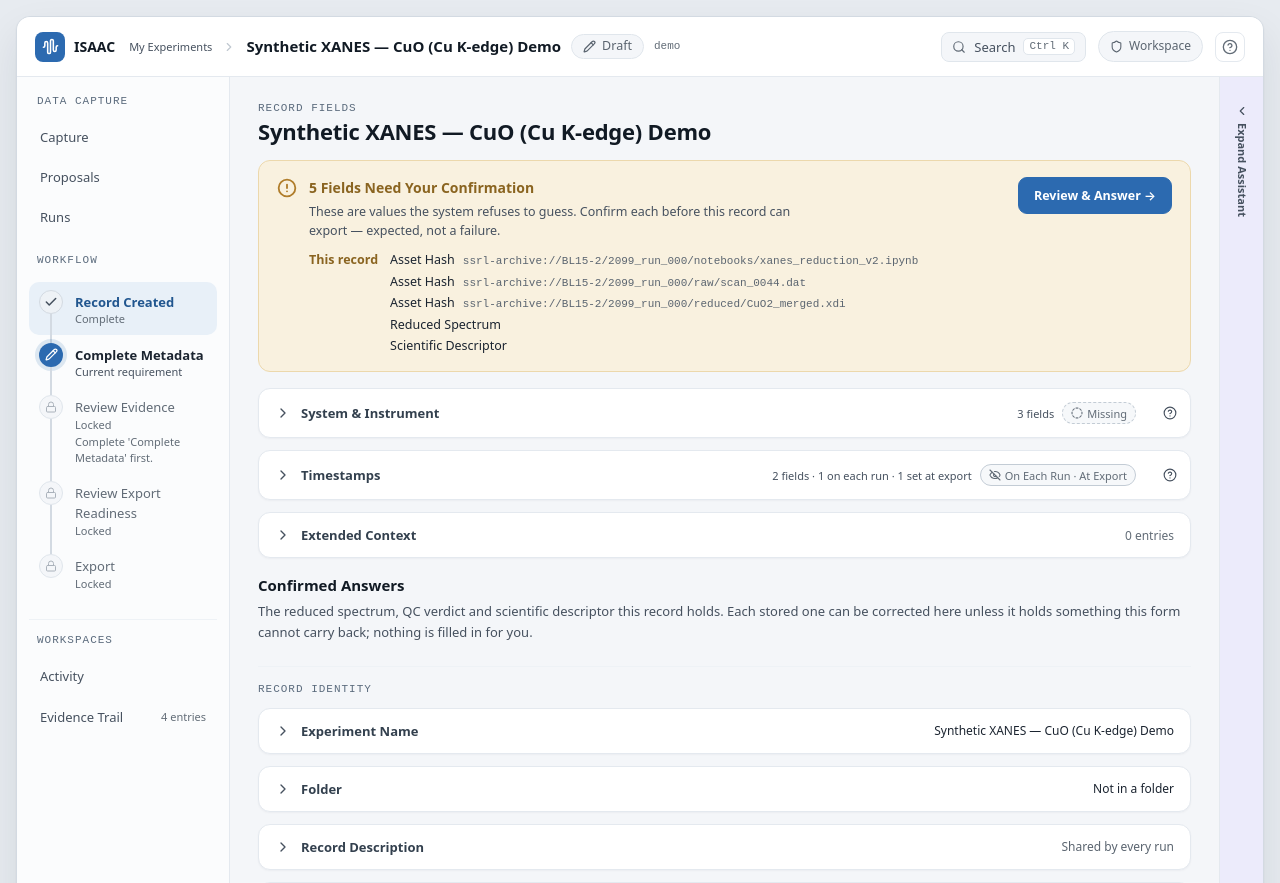
Scenario: the one control that exists › never presents a refused write as a success, and offers no silent retry
Click the button "System & Instrument 3 fields Missing". click: (370, 413)
box: [259, 389, 1152, 437]
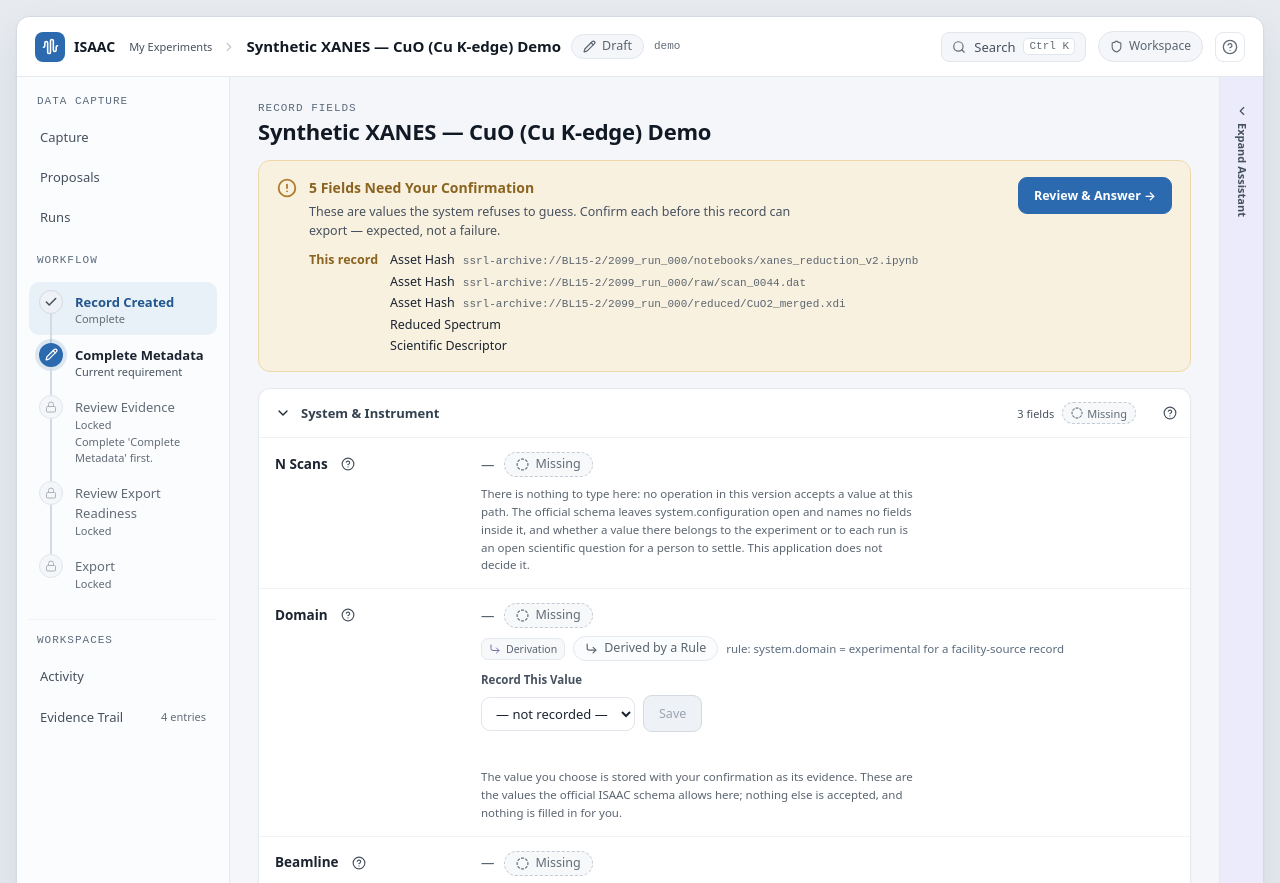
Select "Computational" in the dropdown labelled "Record This Value". click: (558, 714)
box: [481, 696, 635, 730]
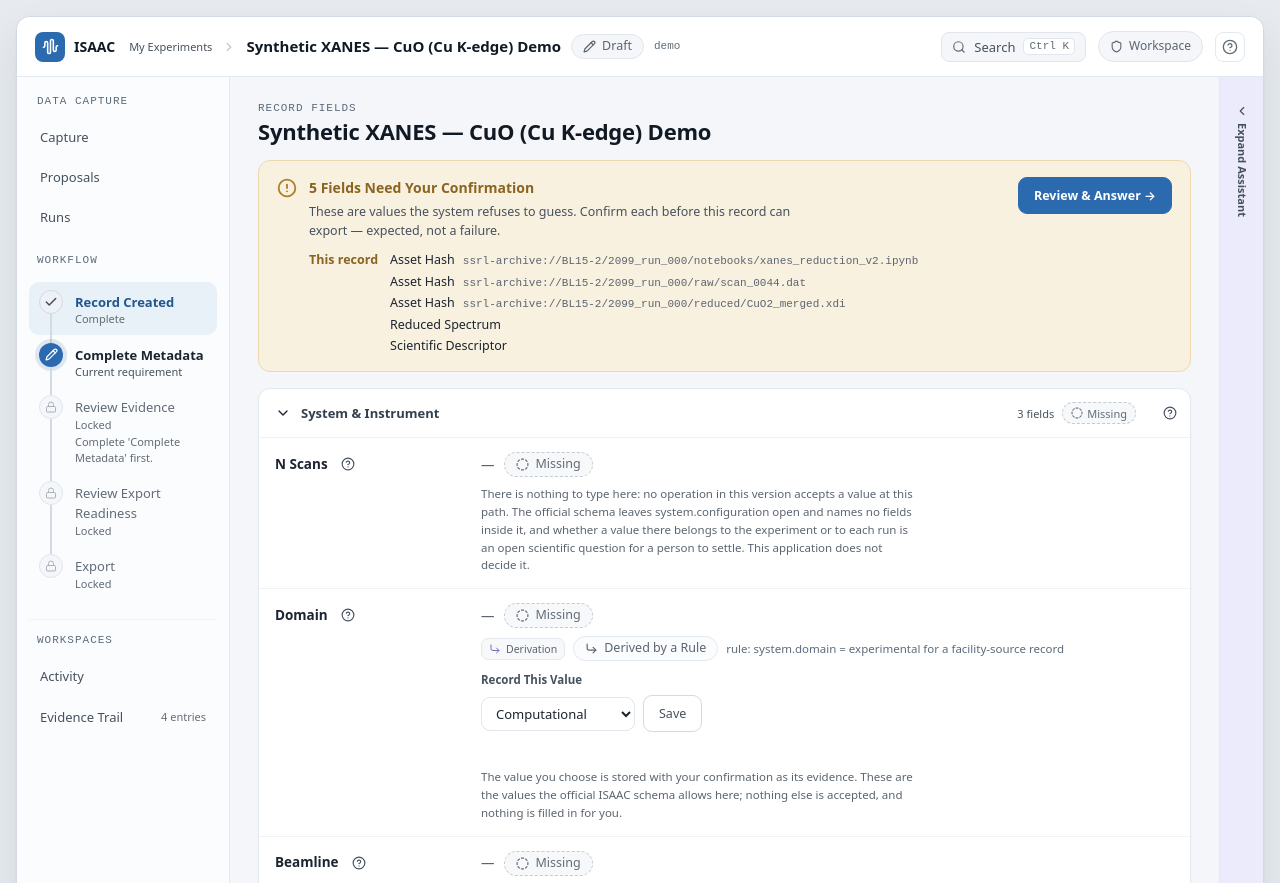
Click the button "Save". click: (673, 714)
box: [643, 695, 702, 732]
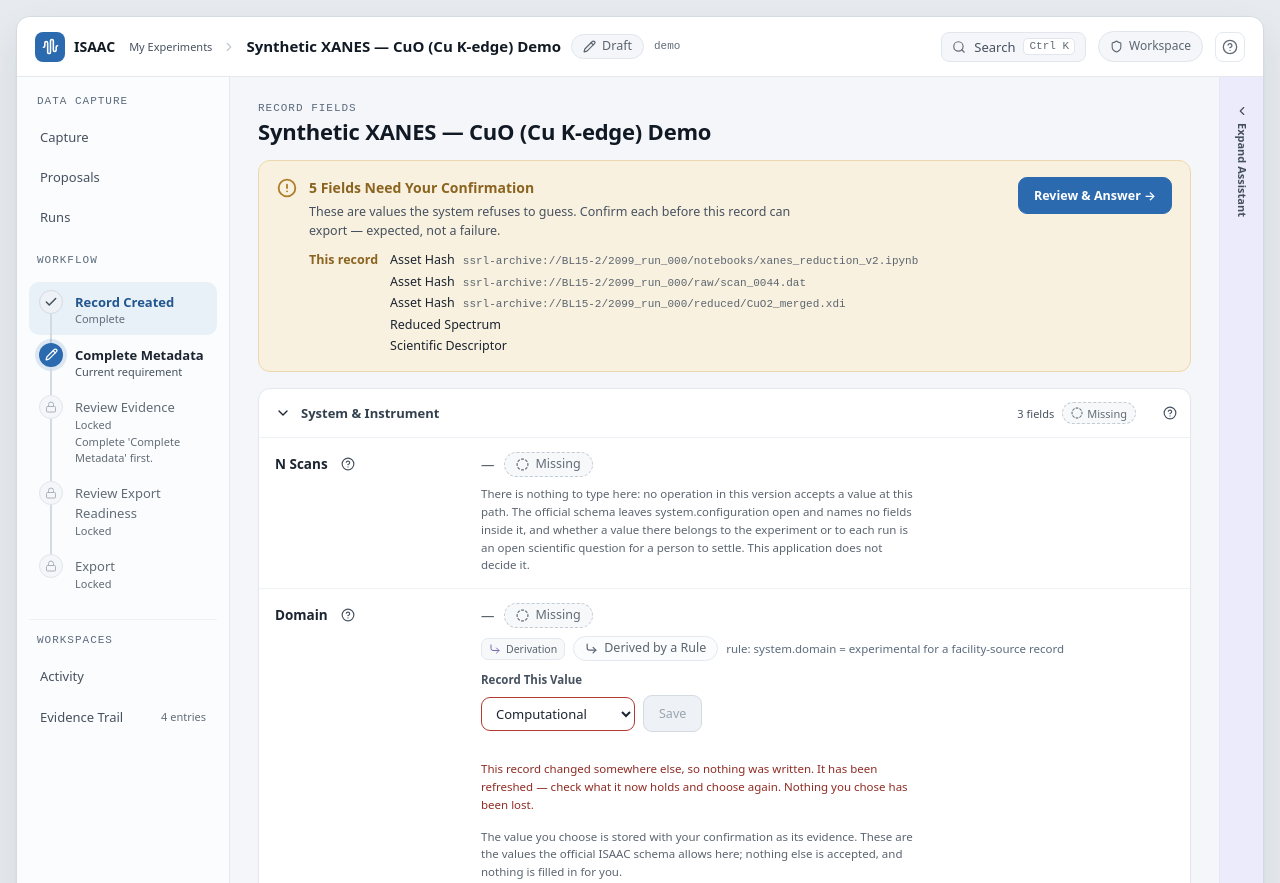
Check: the 2nd message shows "nothing was written", box [481, 761, 908, 812]
